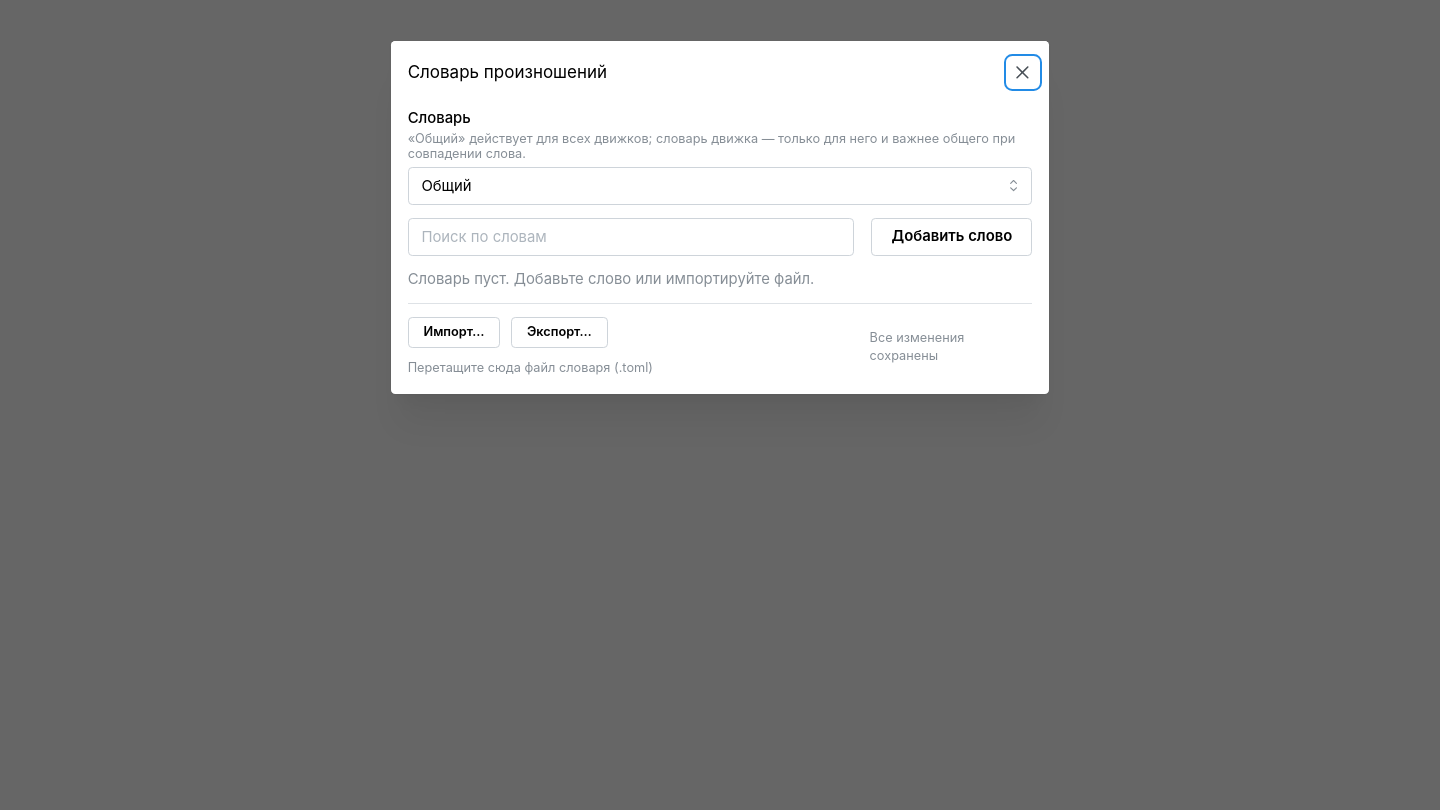
it: DictionaryModal field help › offers a help affordance on the spoken-form field
Click the button "Добавить слово" at (952, 237), box [871,218,1032,256]
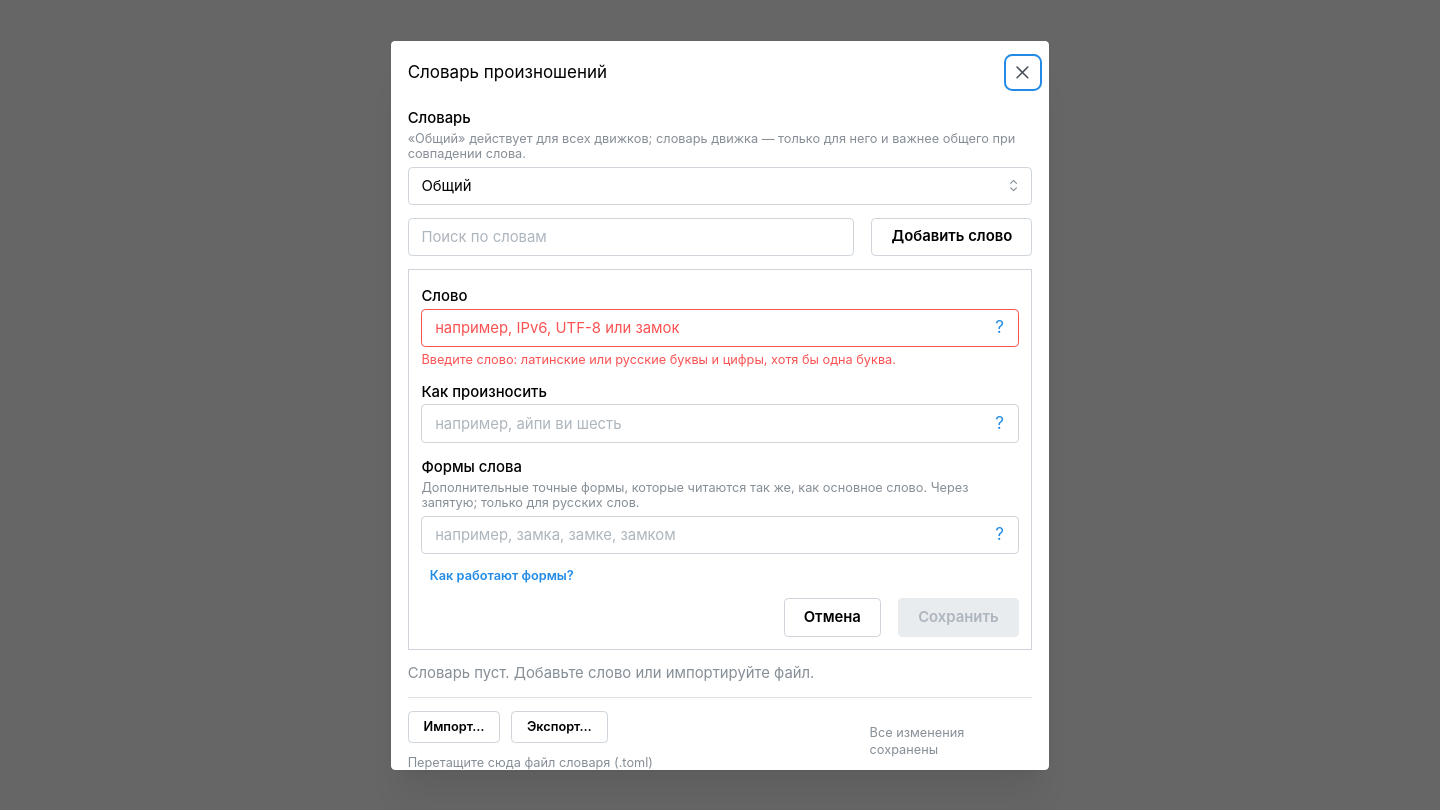
Now the button named "Справка об ударении" reads "?", box [988,412,1011,435]
